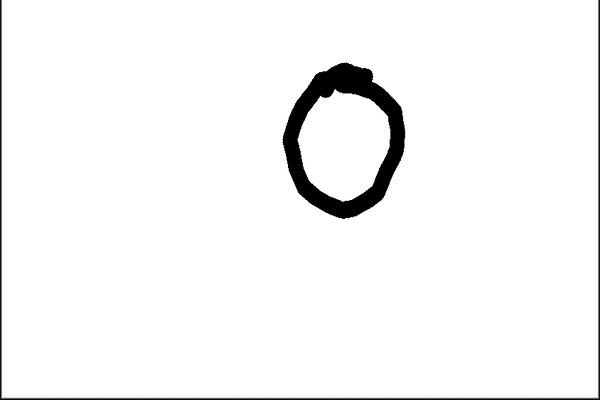O: (271, 53, 408, 221)
